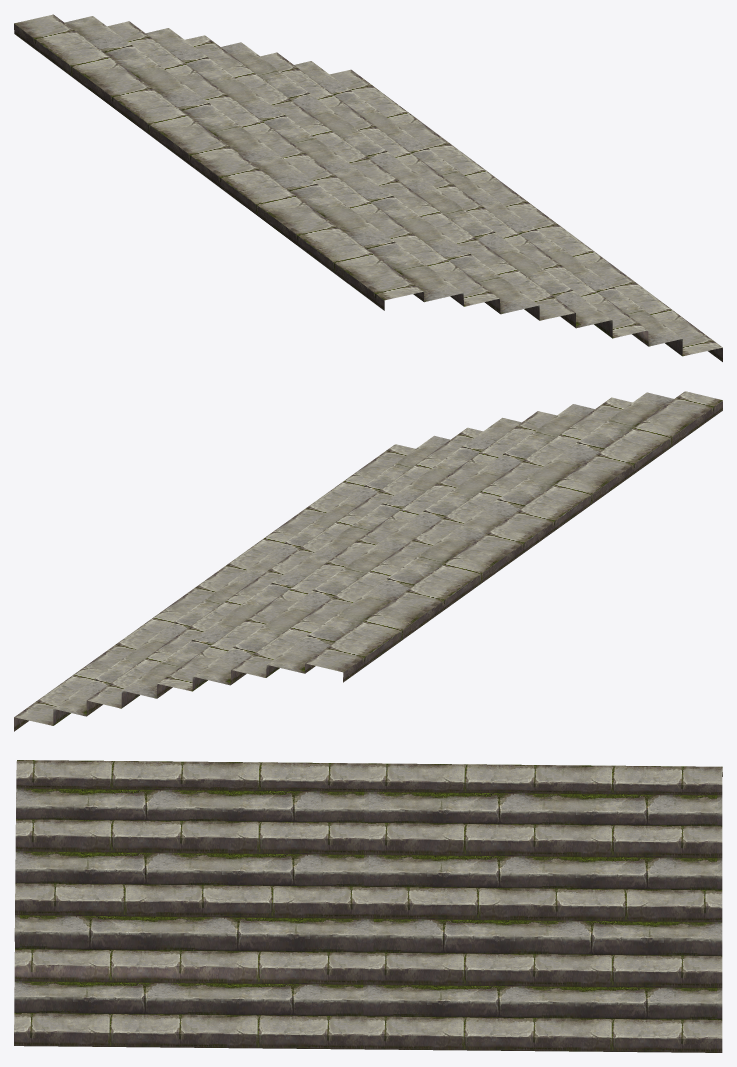
File: xs__Item_louti_1.FBX
3 renders of one model, top to bottom at view 1: azimuth 30°, elevation 25°; view 2: azimuth 150°, elevation 25°; view 3: azimuth 270°, elevation 25°, orthographic. The views are drawn at different scales.
Parts seen in each view (by area): view 1: xs__Item_louti_1; view 2: xs__Item_louti_1; view 3: xs__Item_louti_1.
Part boxes in pixels (box(x1,y1,x2,y2)): xs__Item_louti_1: box(14, 14, 722, 361); xs__Item_louti_1: box(14, 391, 722, 731); xs__Item_louti_1: box(14, 760, 722, 1052).
Bounding box in the file's own units: 609 × 1162 × 246.
